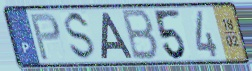4: (194, 9, 220, 59)
5: (151, 8, 188, 61)
A: (100, 11, 135, 61)
B: (120, 8, 160, 63)
P: (28, 11, 63, 62)
S: (64, 10, 98, 63)
